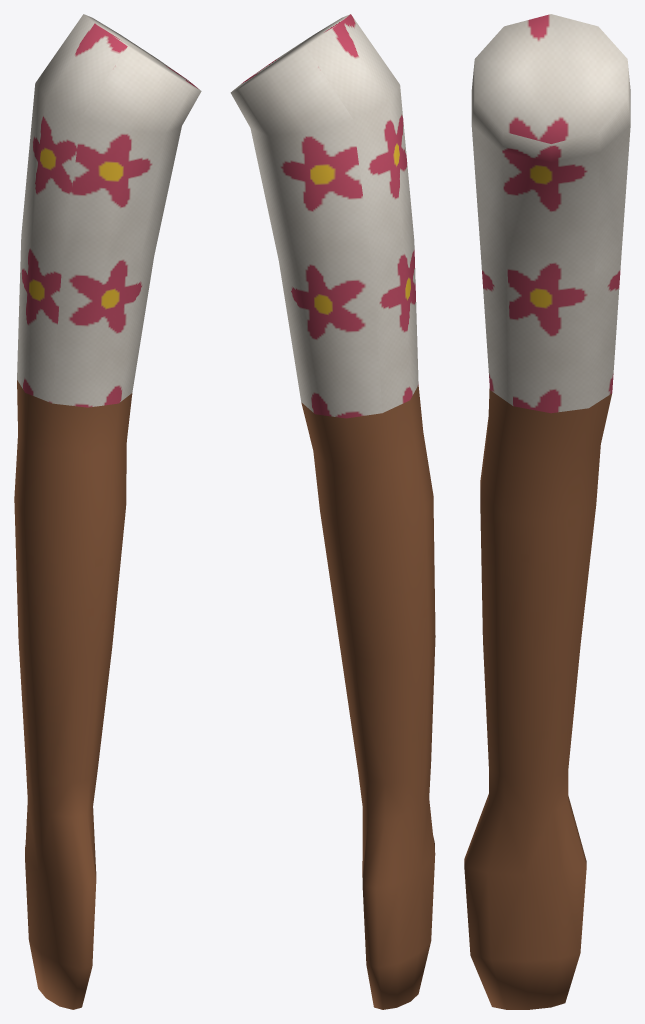
Rendered from brazoder.obj.
3 renders of one model, left to right at view 1: azimuth 30°, elevation 25°; view 2: azimuth 150°, elevation 25°; view 3: azimuth 270°, elevation 25°, orthographic. The views are drawn at different scales.
Parts seen in each view (by area): view 1: BrazoDer; view 2: BrazoDer; view 3: BrazoDer.
Part boxes in pixels (x1,y1,x2,y2): BrazoDer: (14,14,201,1009); BrazoDer: (230,14,435,1009); BrazoDer: (464,14,630,1009).
Bounding box in the file's own units: 0.1227 × 0.648 × 0.0962.
2 materials, 2 textured.
